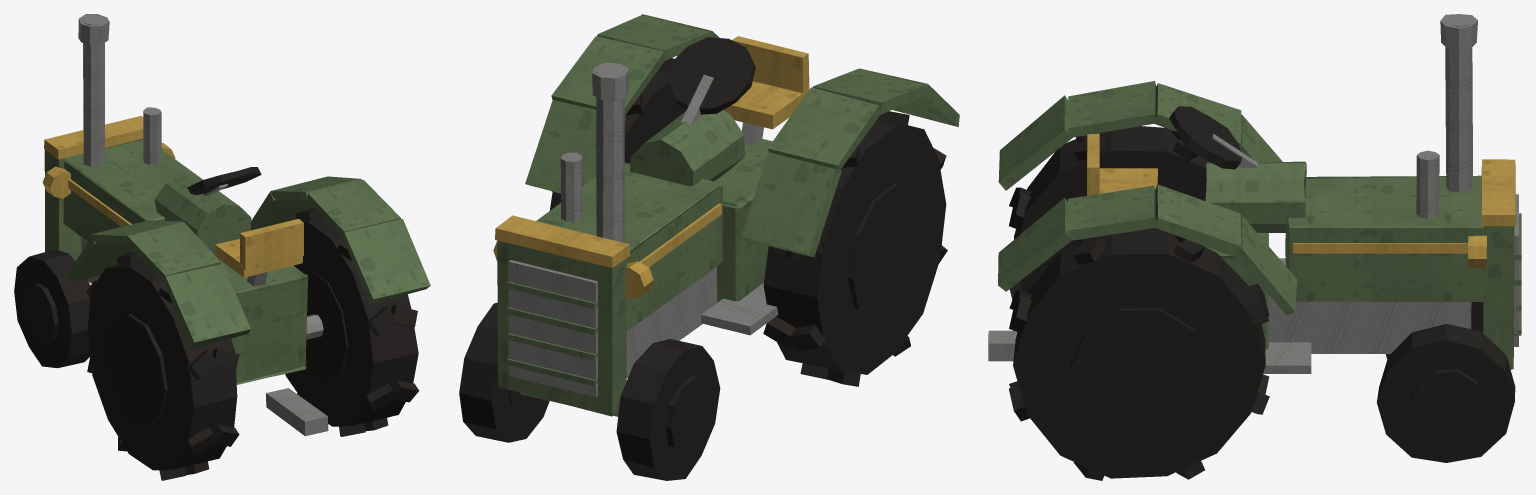
File: farm_tractor.glb
3 renders of one model, left to right at view 1: azimuth 30°, elevation 25°; view 2: azimuth 150°, elevation 25°; view 3: azimuth 270°, elevation 25°, orthographic. The views are drawn at different scales.
Parts seen in each view (by area): view 1: FarmTractor, Wheel_L2, Wheel_R2, Wheel_L1; view 2: FarmTractor, Wheel_L2, Wheel_L1, Wheel_R1, Wheel_R2; view 3: FarmTractor, Wheel_R2, Wheel_R1, Wheel_L2.
Part boxes in pixels (x1,y1,x2,y2): FarmTractor: [42, 14, 430, 436]; Wheel_L2: [86, 252, 239, 480]; Wheel_R2: [285, 208, 419, 436]; Wheel_L1: [14, 249, 90, 368]; FarmTractor: [493, 14, 959, 416]; Wheel_L2: [763, 111, 947, 386]; Wheel_L1: [616, 339, 720, 480]; Wheel_R1: [459, 302, 549, 442]; Wheel_R2: [549, 58, 686, 210]; FarmTractor: [988, 14, 1521, 373]; Wheel_R2: [1009, 228, 1269, 480]; Wheel_R1: [1376, 324, 1515, 462]; Wheel_L2: [1009, 126, 1209, 299].
Size of the model in its own units: 1.47 by 1.95 by 2.43.
Materials: 4 (3 with a texture image).
